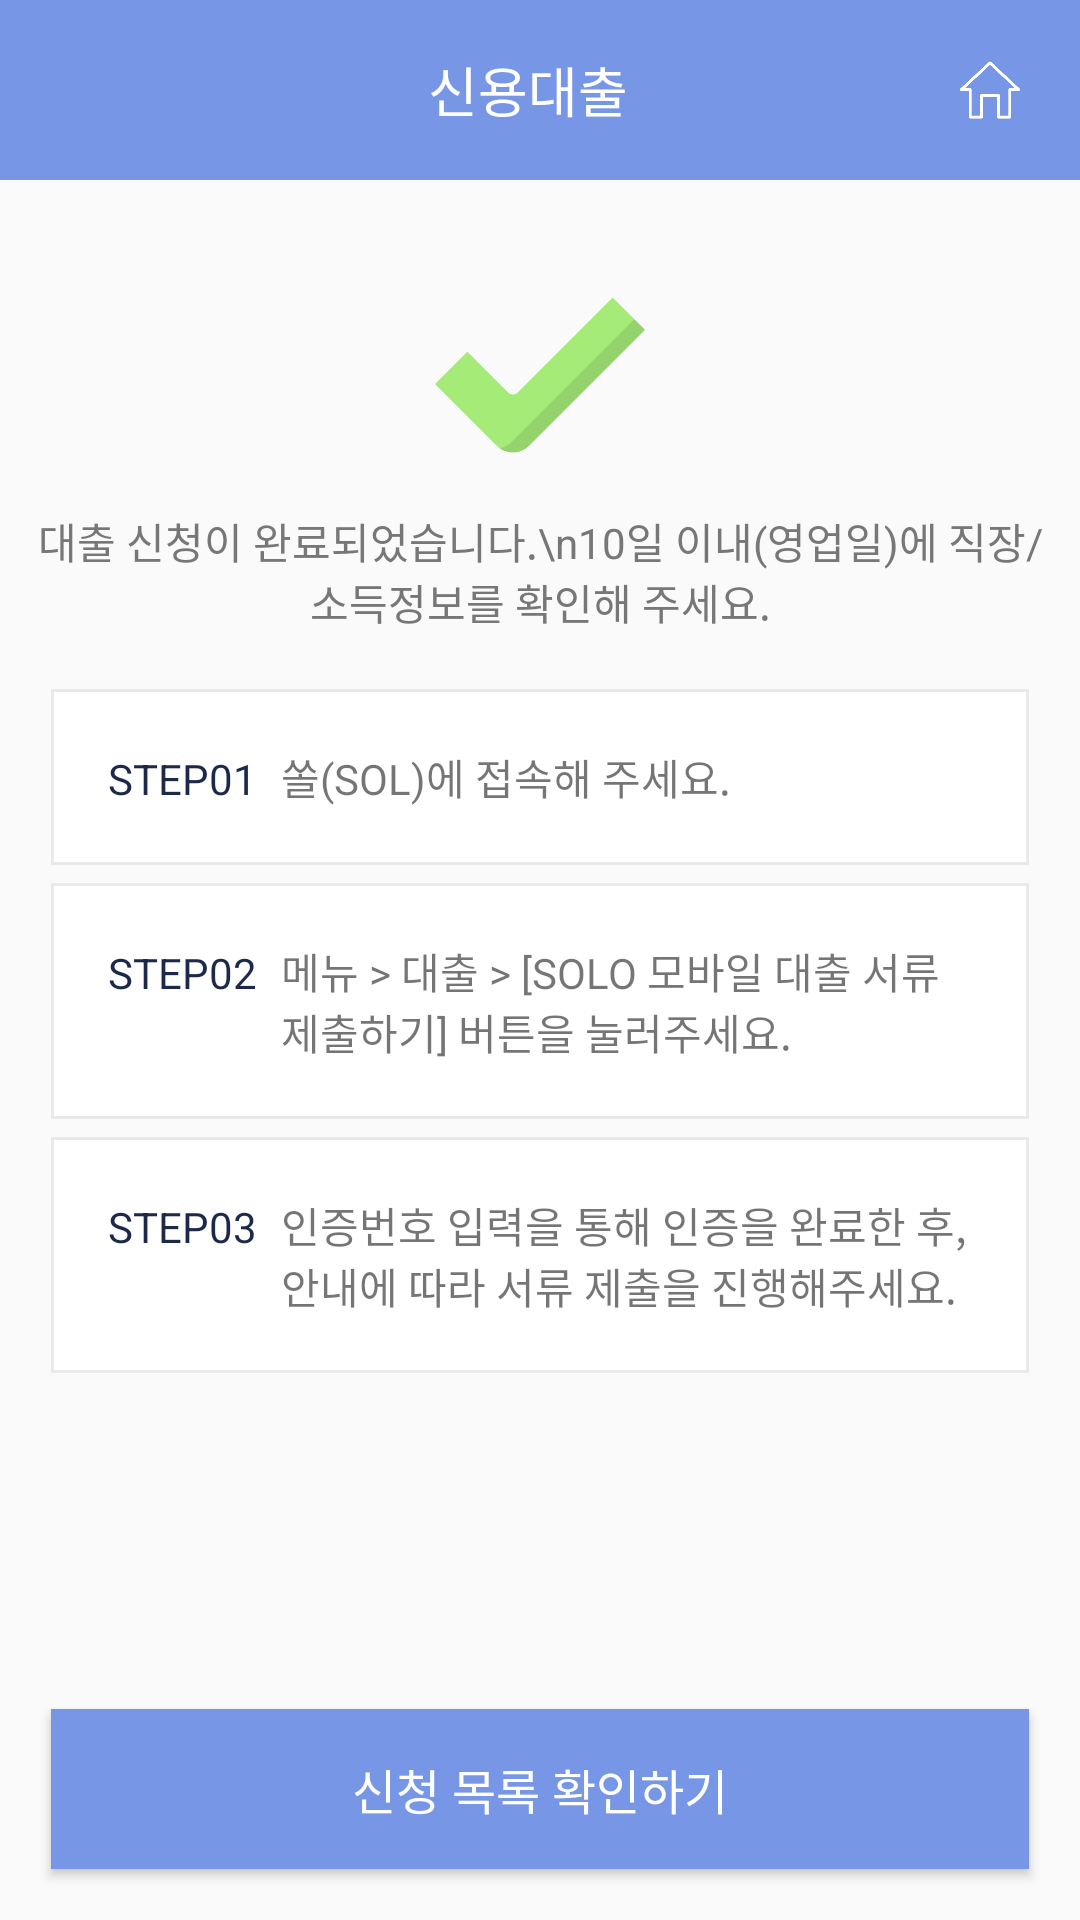

Point at icon controls on the screen. Image size 1080 × 1920, points as point (x, y).
check: point (540, 375)
top home: point (990, 90)
